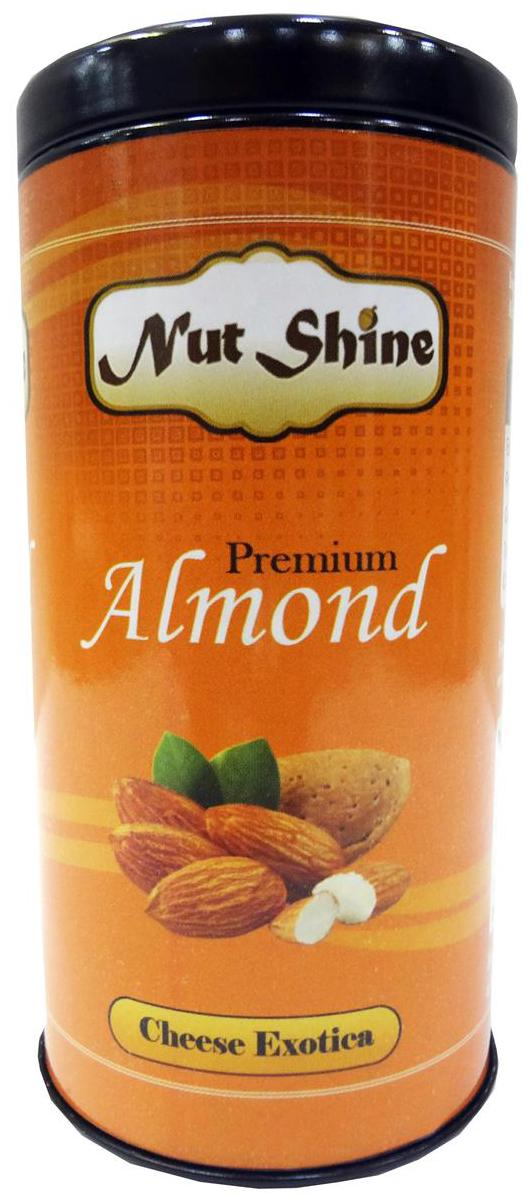JAR: (12, 1, 510, 1194)
